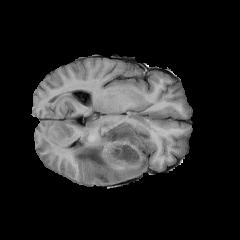glioma: (67, 120, 149, 183)
